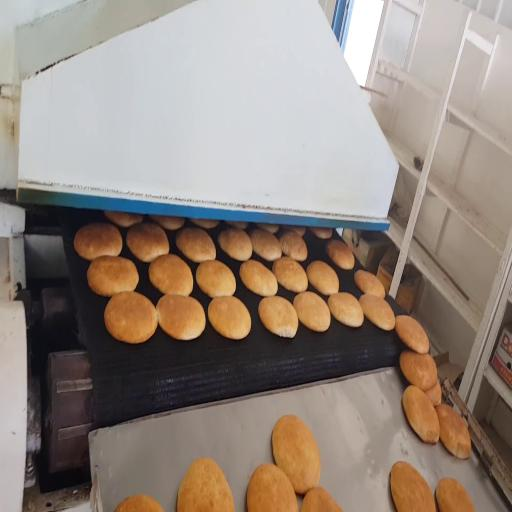bread: (272, 415, 320, 494), (177, 459, 234, 511), (104, 292, 157, 343), (247, 464, 298, 511), (156, 295, 205, 340), (391, 462, 435, 511), (402, 386, 439, 443), (87, 256, 138, 296), (436, 404, 471, 458), (208, 296, 251, 339), (74, 223, 122, 260), (149, 255, 193, 295), (259, 296, 298, 338), (127, 223, 169, 262), (400, 351, 437, 391), (196, 260, 235, 297), (294, 292, 330, 331), (240, 260, 277, 296), (395, 315, 429, 354), (176, 228, 215, 262), (436, 478, 475, 511), (272, 256, 307, 292), (360, 294, 395, 330), (328, 293, 363, 327), (307, 261, 339, 295), (218, 229, 252, 261), (250, 229, 281, 261), (301, 487, 342, 511), (279, 230, 307, 261), (355, 270, 385, 298), (327, 240, 354, 270), (115, 495, 163, 511), (104, 211, 143, 227), (150, 215, 184, 230), (425, 382, 441, 406), (191, 219, 219, 228), (257, 223, 279, 234), (310, 228, 332, 239), (284, 226, 305, 236), (226, 221, 247, 229)
